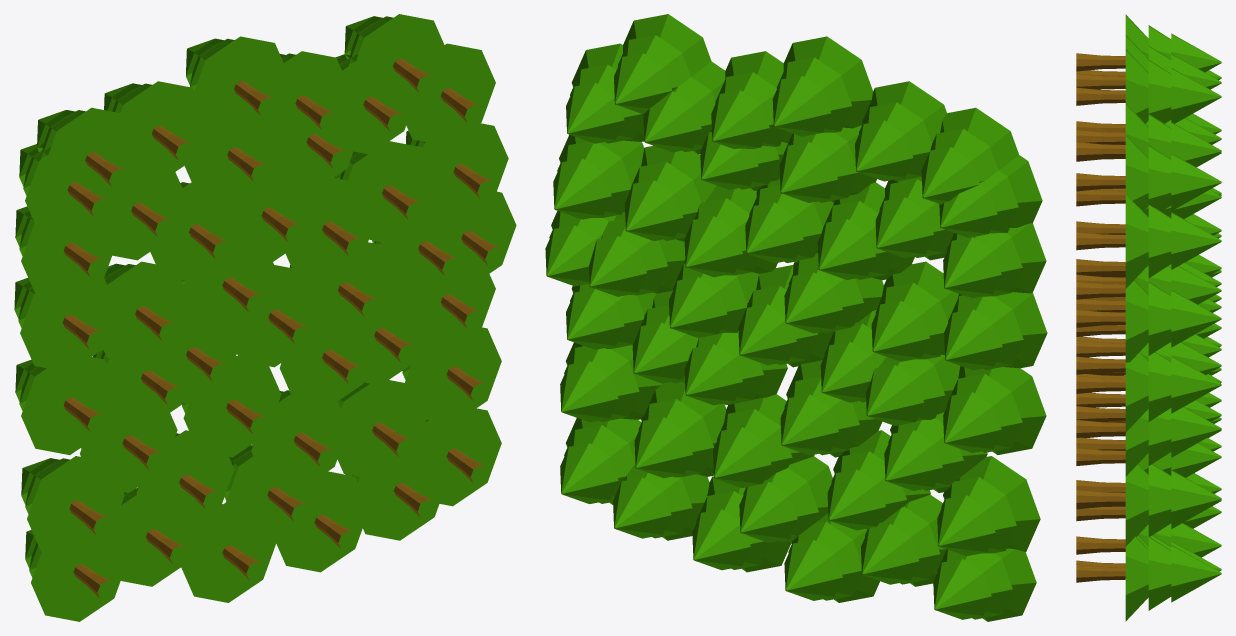
File: tree2.dae
3 views of the same model, side by side, from view 1: azimuth 30°, elevation 25°; view 2: azimuth 150°, elevation 25°; view 3: azimuth 270°, elevation 25° (orthographic). The views are drawn at different scales.
Visible parts, largest first — view 1: Cylinder_043; view 2: Cylinder_043; view 3: Cylinder_043.
Boxes of the visible parts, x1,y1,x2,y2 form: Cylinder_043: (14, 14, 516, 621); Cylinder_043: (545, 14, 1047, 621); Cylinder_043: (1076, 14, 1221, 621).
Size of the model in its own units: 1.22 by 0.3398 by 1.33.
1 material, 1 textured.
